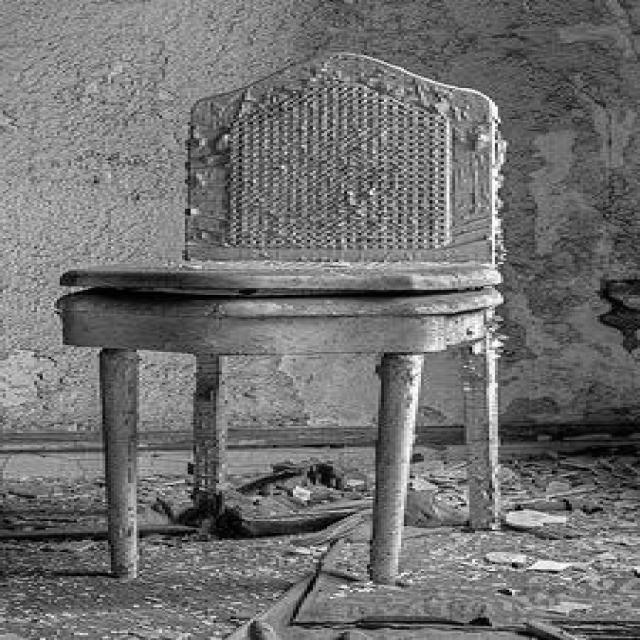chair: (52, 49, 512, 588)
